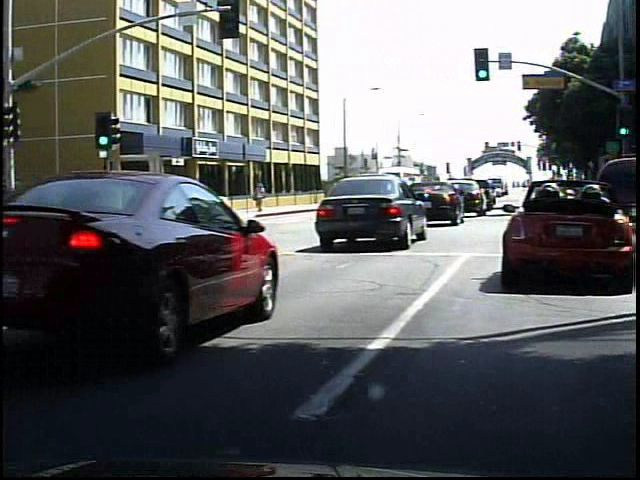person: (246, 179, 264, 218)
